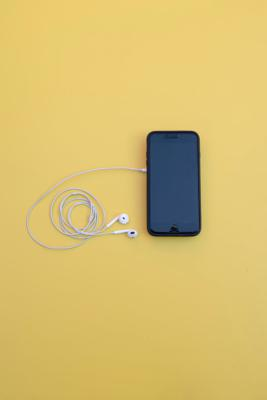cell-phone: (143, 124, 203, 240)
